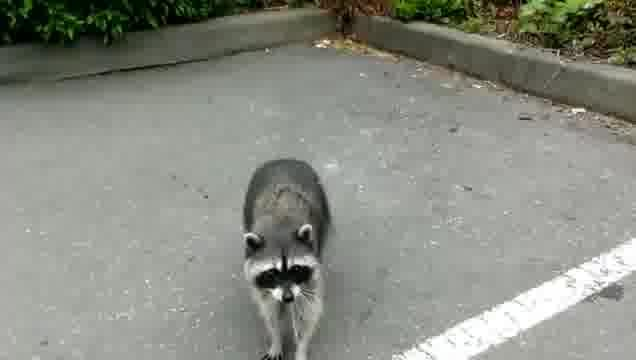raccoon: (243, 156, 335, 360)
